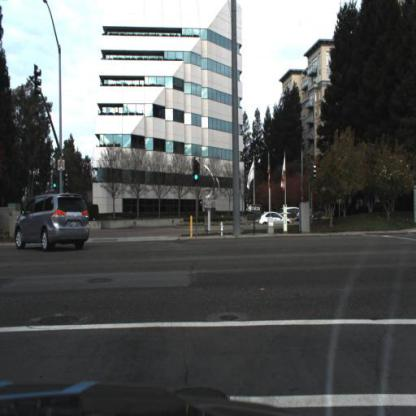car: (15, 188, 91, 252), (281, 204, 309, 227), (257, 212, 291, 228)
trafficLight-Green: (193, 142, 208, 192), (47, 172, 61, 203), (193, 155, 200, 183), (51, 173, 59, 192)
